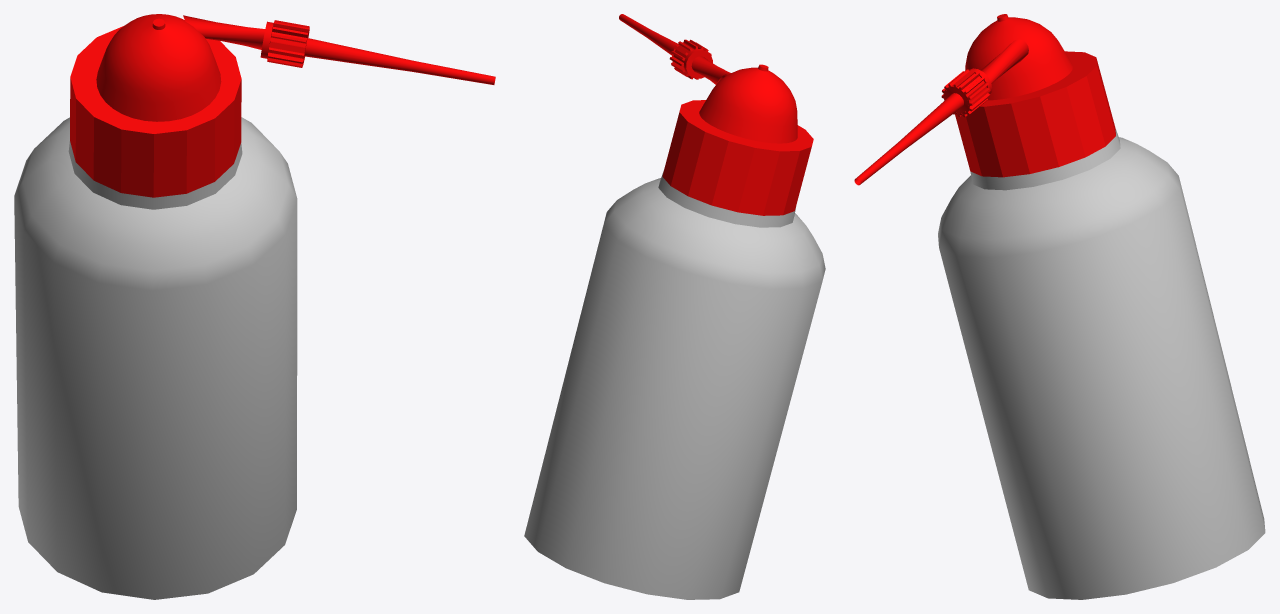
3 renders of one model, left to right at view 1: azimuth 30°, elevation 25°; view 2: azimuth 150°, elevation 25°; view 3: azimuth 270°, elevation 25°, orthographic. The views are drawn at different scales.
Visible parts, largest first — view 1: Line005, 对象001, Line002, Line004; view 2: Line005, 对象001, Line002, Line004; view 3: Line005, 对象001, Line002, Line004.
Part boxes in pixels (x1,y1,x2,y2): Line005: [14, 117, 297, 599]; 对象001: [70, 25, 241, 197]; Line002: [96, 14, 221, 121]; Line004: [183, 15, 495, 84]; Line005: [524, 170, 825, 599]; 对象001: [662, 100, 813, 215]; Line002: [699, 64, 797, 143]; Line004: [619, 14, 730, 84]; Line005: [938, 128, 1265, 599]; 对象001: [955, 51, 1115, 177]; Line002: [965, 14, 1072, 100]; Line004: [854, 39, 1028, 185].
Bounding box in the file's own units: 449 × 739 × 513.
